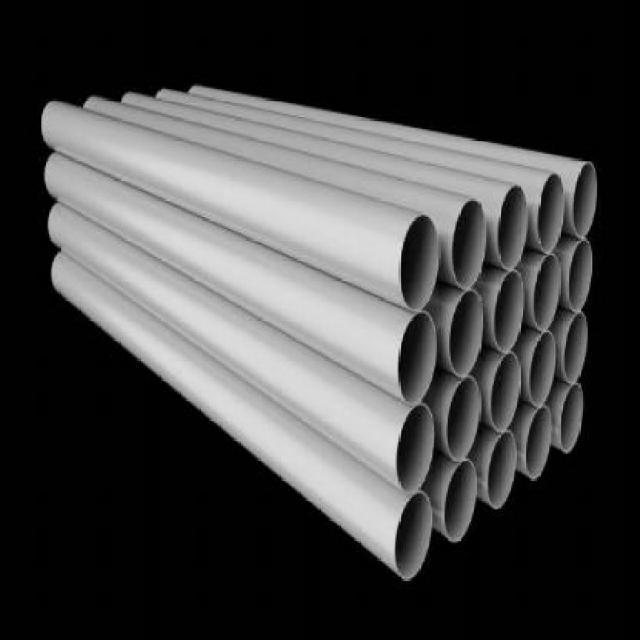pipe: (399, 214, 439, 313), (397, 312, 437, 405), (397, 403, 435, 494), (394, 492, 432, 581), (451, 199, 487, 290), (448, 289, 484, 377), (446, 376, 480, 462), (444, 459, 478, 544), (497, 185, 528, 271), (494, 271, 525, 353), (487, 432, 518, 509), (491, 353, 520, 433), (537, 174, 565, 254), (532, 255, 560, 332), (529, 331, 557, 407), (525, 405, 553, 479), (572, 162, 597, 239), (568, 239, 593, 313), (563, 313, 588, 384), (559, 384, 584, 452)
